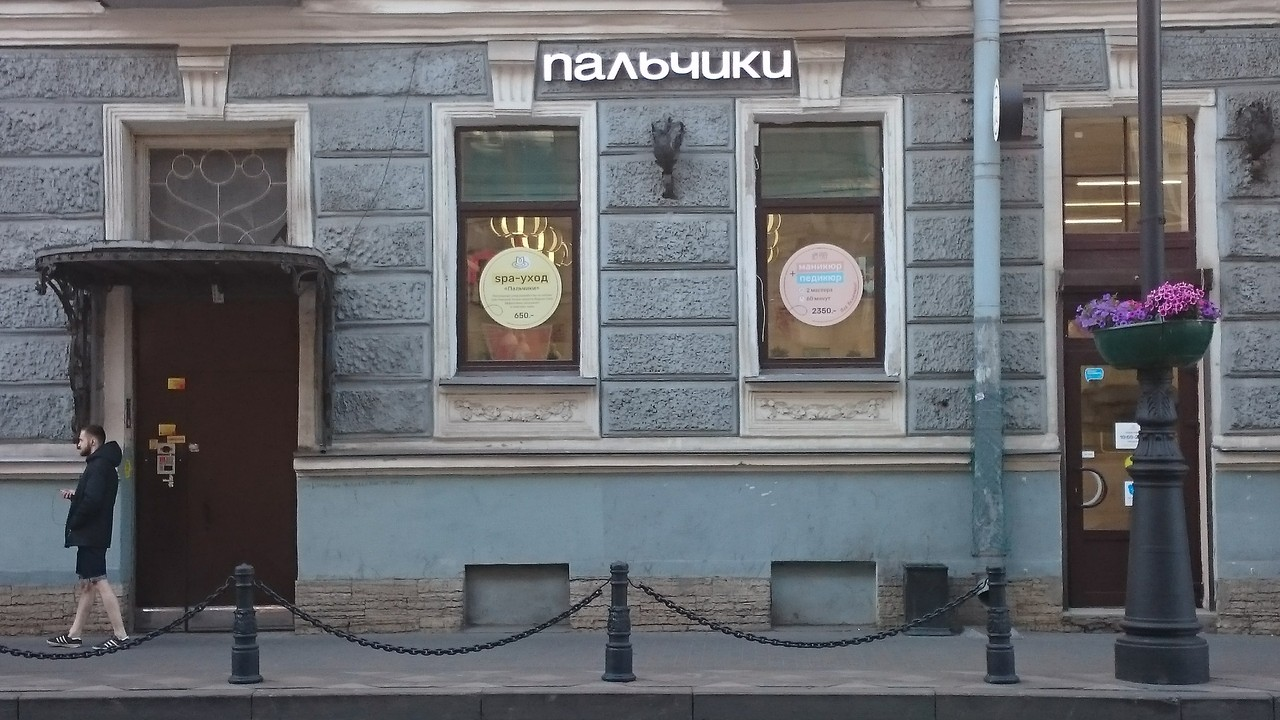cantilever: (988, 72, 1022, 139)
door: (1066, 347, 1137, 607)
signboard: (544, 52, 794, 81)
window: (757, 115, 885, 367), (458, 126, 582, 368), (141, 138, 291, 246), (1063, 111, 1192, 235)
